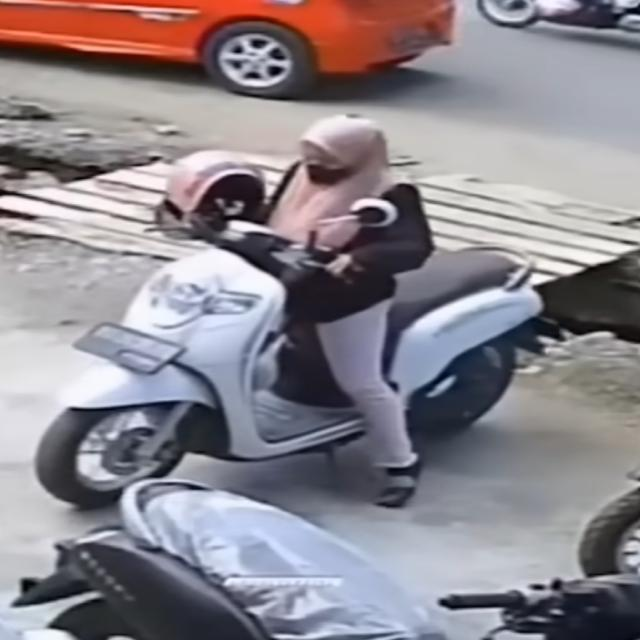WithoutHelmet: (110, 111, 547, 510)
